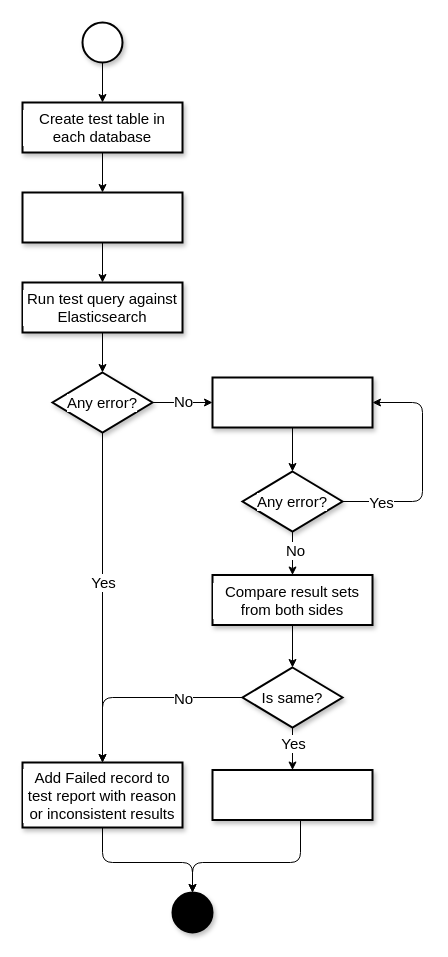
This 448x957 diagram has some shape labels left out. Here are the shapes that lost their labels. From the top down, the centre of each, then its label:
At point (103, 218): "Load test data to each database".
At point (293, 403): "Run test query against other database".
At point (293, 796): "Add Success record to test report".
